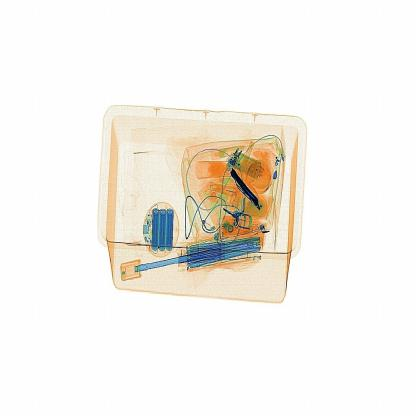knife: (225, 162, 265, 212)
